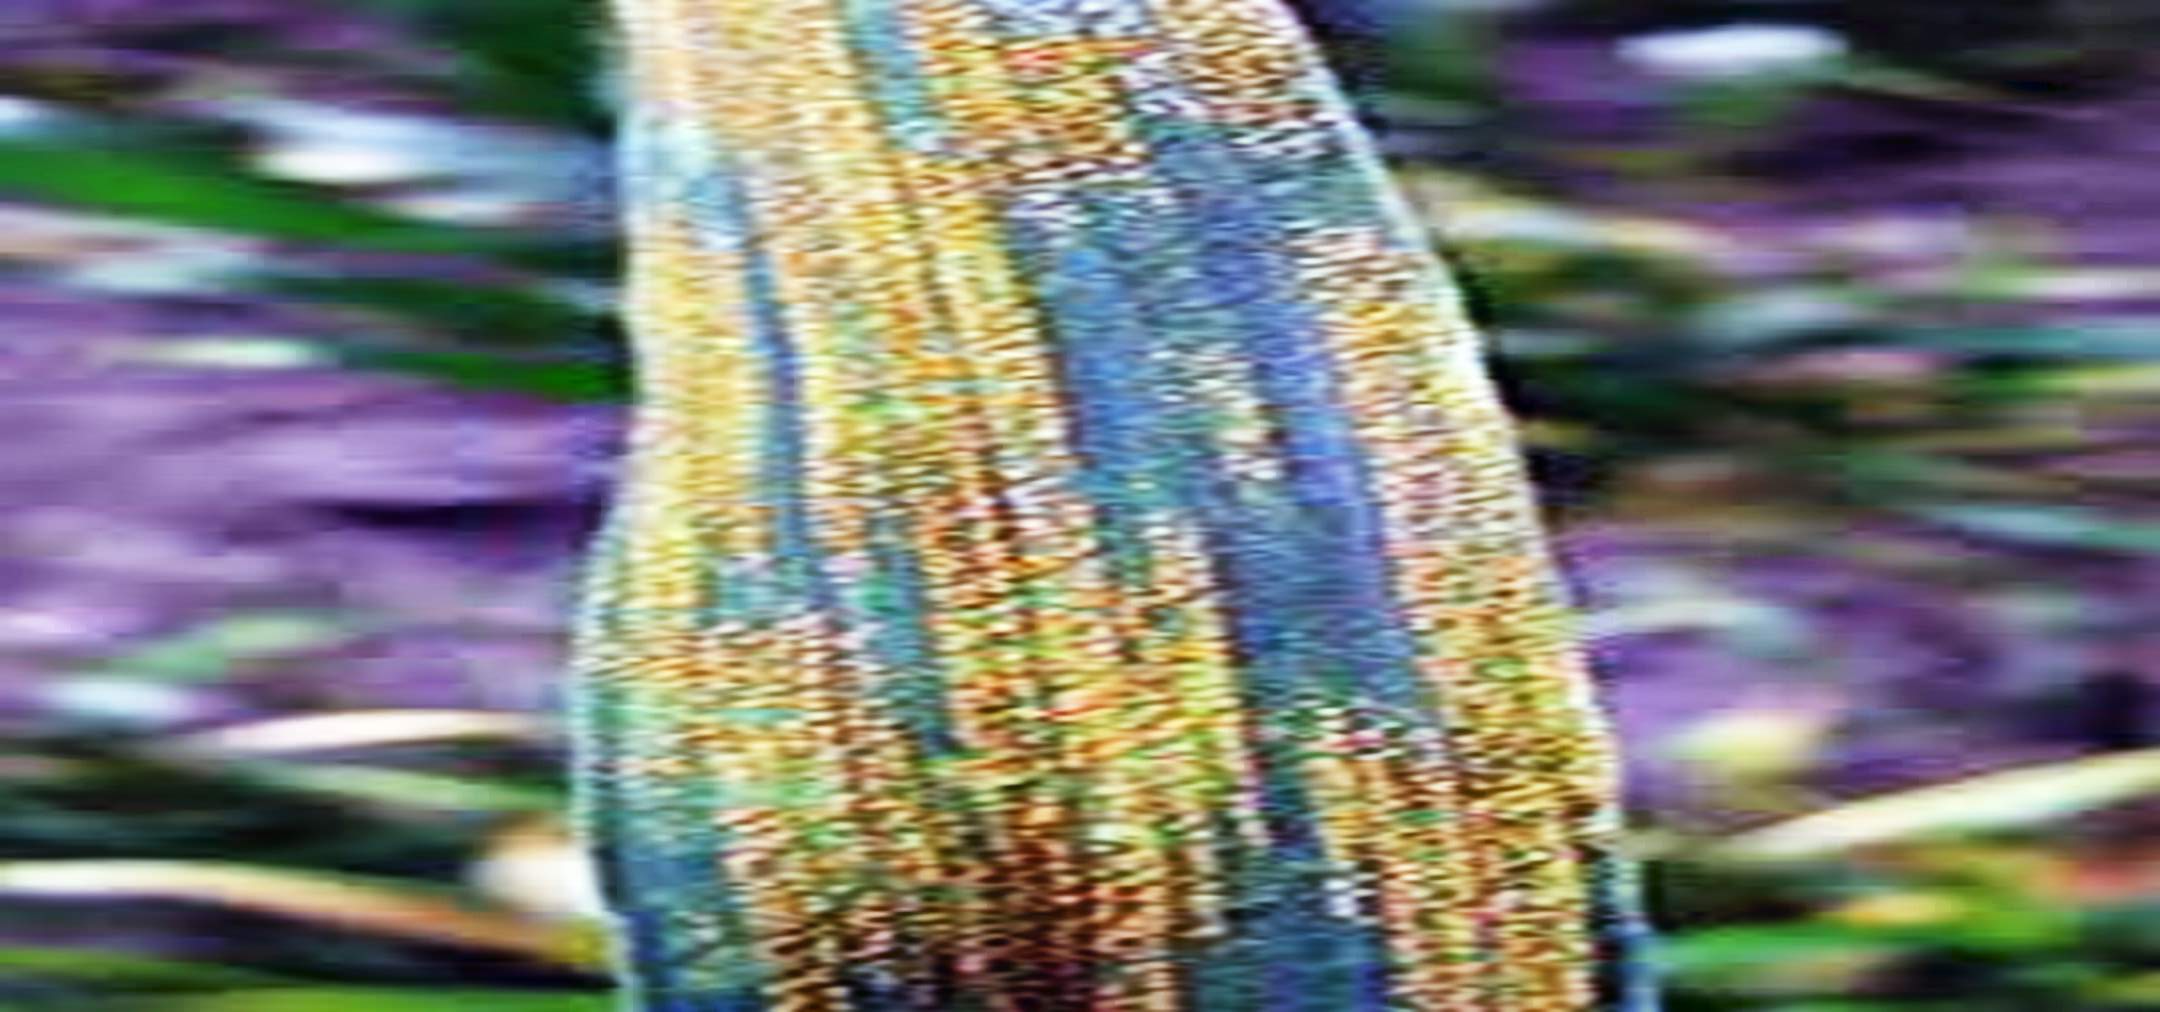Leaf Rust: (588, 313, 1552, 956)
